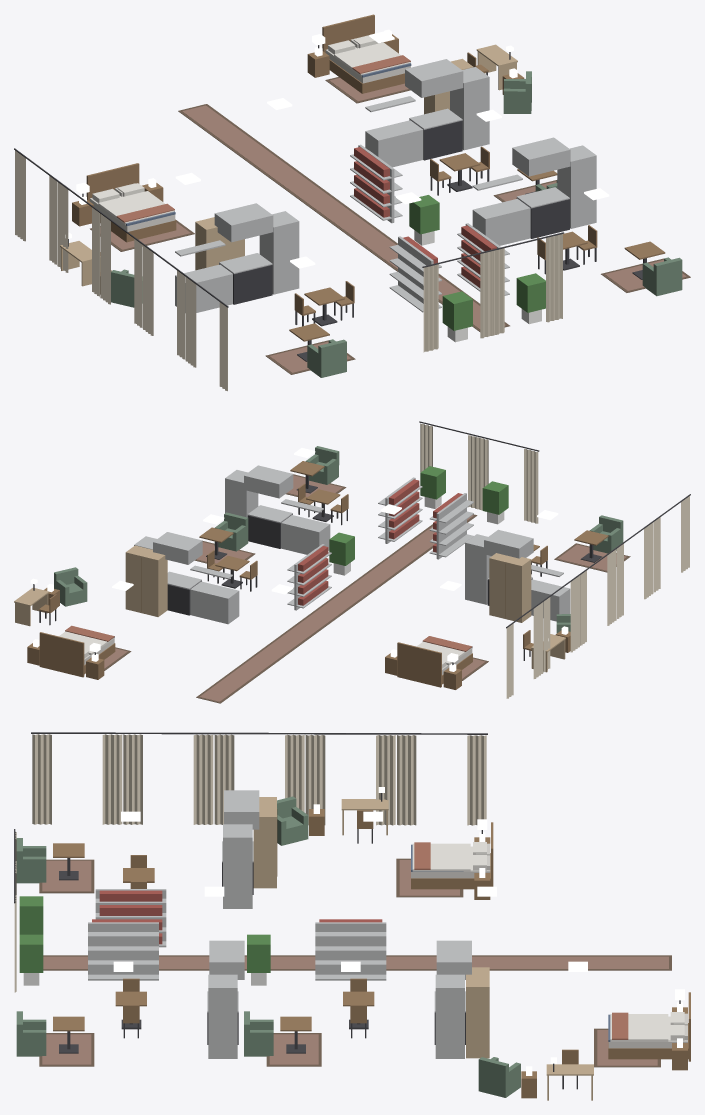
The model's file is fine-s3.glb.
The picture shows the model from 3 angles, top to bottom: view 1: azimuth 30°, elevation 25°; view 2: azimuth 150°, elevation 25°; view 3: azimuth 270°, elevation 25°; orthographic projection. The views are drawn at different scales.
Parts seen in each view (by area): view 1: soft-s3, range.006, range.005, range.007, shelving.006, bed-frame.006, bed-frame.005, kitchen-counter.006, kitchen-counter.007, fridge.005, fridge.006, fridge.007 (+17 smaller); view 2: soft-s3, dresser.005, dresser.006, range.007, range.006, shelving.005, kitchen-counter.006, bed-frame.006, bed-frame.005, shelving.006, kitchen-counter.007, shelving.007 (+18 smaller); view 3: soft-s3, shelving.006, shelving.007, fridge.007, fridge.006, fridge.005, shelving.005, dresser.006, dresser.005, bed-frame.005, bed-frame.006, range.007 (+17 smaller).
Part boxes in pixels (x1=…): soft-s3: x1=14, y1=34, x2=690, y2=391; range.006: x1=405, y1=59, x2=463, y2=160; range.005: x1=214, y1=203, x2=273, y2=304; range.007: x1=512, y1=137, x2=570, y2=238; shelving.006: x1=350, y1=144, x2=402, y2=223; bed-frame.006: x1=322, y1=14, x2=411, y2=93; bed-frame.005: x1=86, y1=163, x2=176, y2=242; kitchen-counter.006: x1=365, y1=96, x2=423, y2=167; kitchen-counter.007: x1=472, y1=174, x2=530, y2=245; fridge.005: x1=259, y1=211, x2=299, y2=294; fridge.006: x1=450, y1=67, x2=489, y2=150; fridge.007: x1=557, y1=145, x2=596, y2=228; soft-s3: x1=59, y1=421, x2=690, y2=703; dresser.005: x1=489, y1=553, x2=531, y2=622; dresser.006: x1=125, y1=545, x2=167, y2=616; range.007: x1=244, y1=465, x2=293, y2=548; range.006: x1=153, y1=532, x2=202, y2=615; shelving.005: x1=429, y1=493, x2=473, y2=559; kitchen-counter.006: x1=190, y1=565, x2=239, y2=624; bed-frame.006: x1=39, y1=632, x2=115, y2=677; bed-frame.005: x1=397, y1=642, x2=472, y2=687; shelving.006: x1=287, y1=544, x2=331, y2=610; kitchen-counter.007: x1=281, y1=499, x2=330, y2=554; shelving.007: x1=378, y1=477, x2=422, y2=543; soft-s3: x1=14, y1=732, x2=686, y2=1067; shelving.006: x1=315, y1=919, x2=386, y2=980; shelving.007: x1=88, y1=919, x2=158, y2=980; fridge.007: x1=208, y1=974, x2=237, y2=1058; fridge.006: x1=435, y1=974, x2=464, y2=1058; fridge.005: x1=223, y1=824, x2=252, y2=908; shelving.005: x1=95, y1=889, x2=166, y2=947; dresser.006: x1=466, y1=967, x2=489, y2=1058; dresser.005: x1=253, y1=797, x2=277, y2=888; bed-frame.005: x1=411, y1=822, x2=493, y2=889; bed-frame.006: x1=608, y1=992, x2=690, y2=1061; range.007: x1=207, y1=940, x2=244, y2=1044.
Size of the model in its own units: 16.62 by 2.61 by 17.23.
